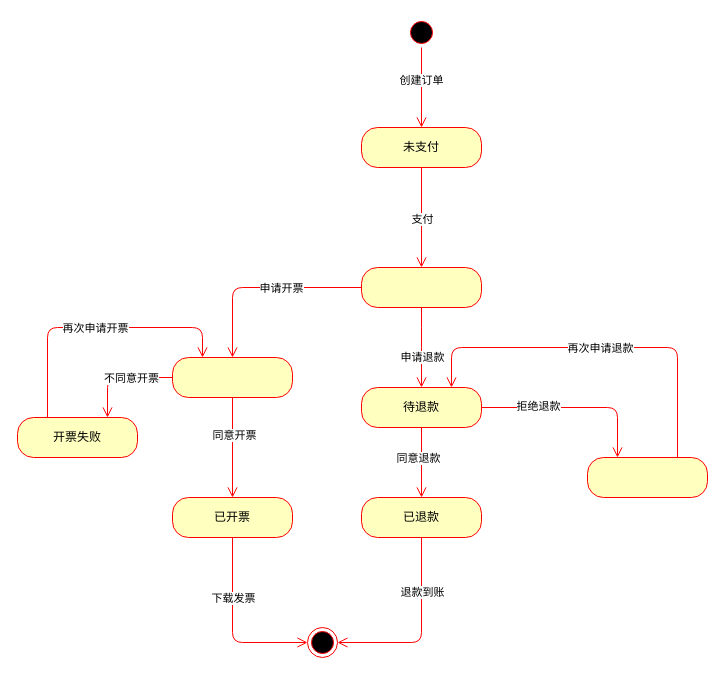
The diagram is 725 pixels wide and 675 high, and some of its shapes have lost their labels. The centre of each missing label's shape, as x and y in pixels:
"已支付" belongs at point (421, 287).
"待开票" belongs at point (232, 377).
"退款失败" belongs at point (647, 477).
